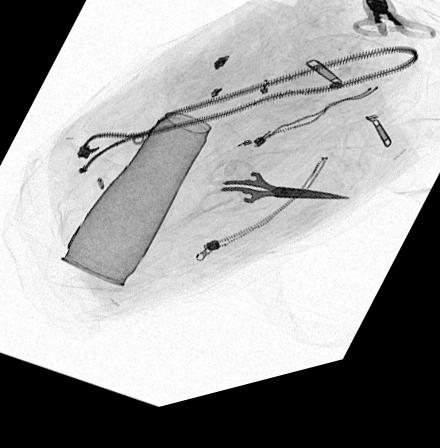Scissors: (192, 169, 357, 224), (343, 2, 437, 62)
